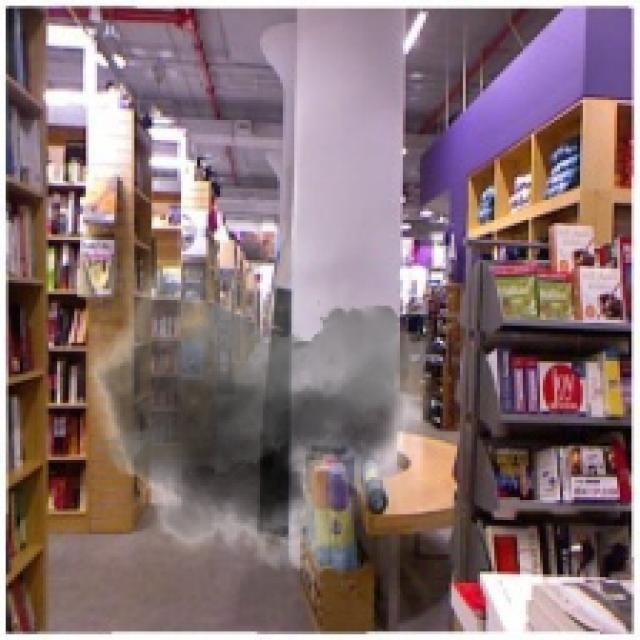Smoke: (66, 199, 437, 592)
